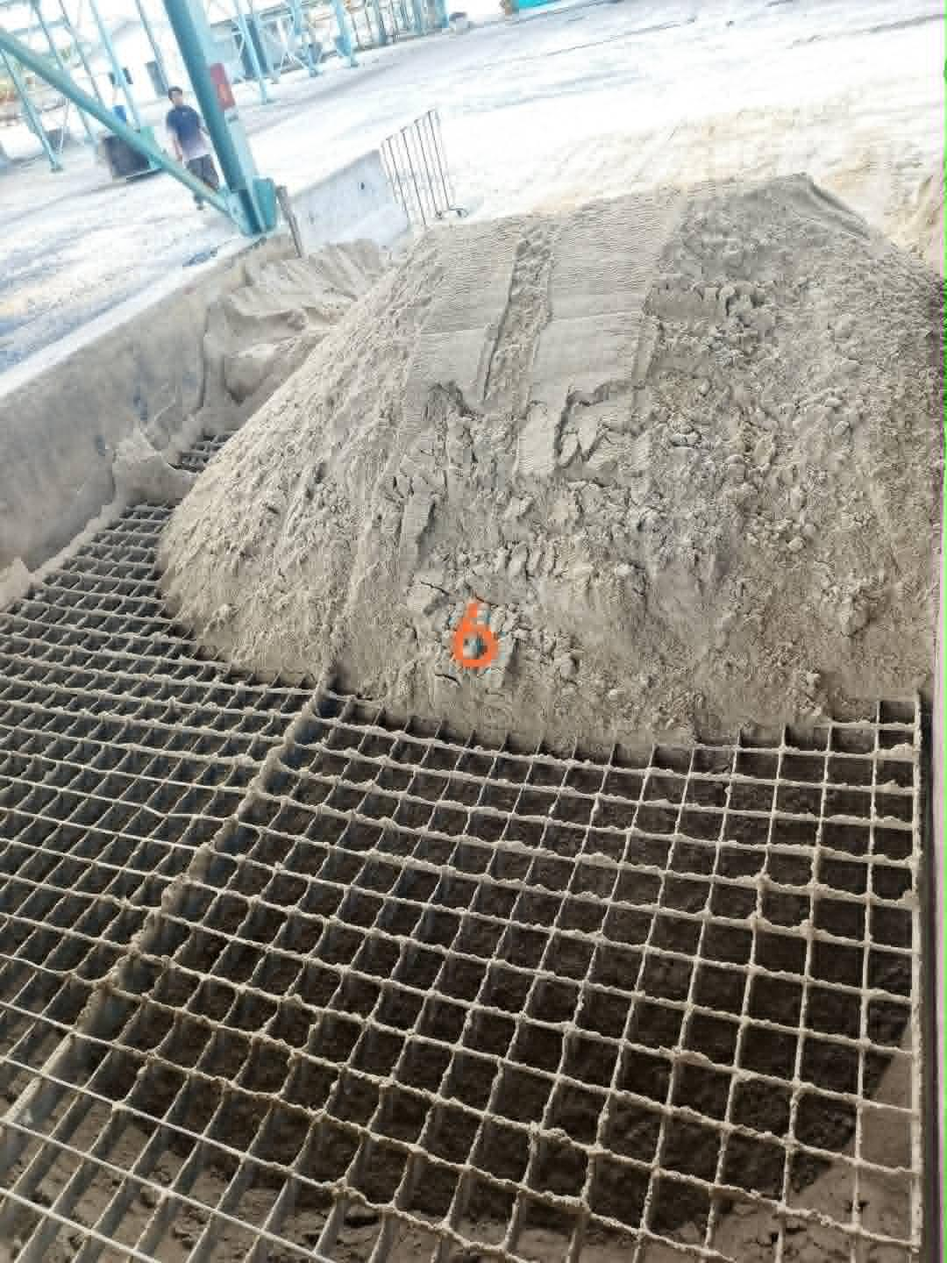sand: (161, 177, 941, 745), (200, 241, 387, 430), (897, 158, 944, 274)
